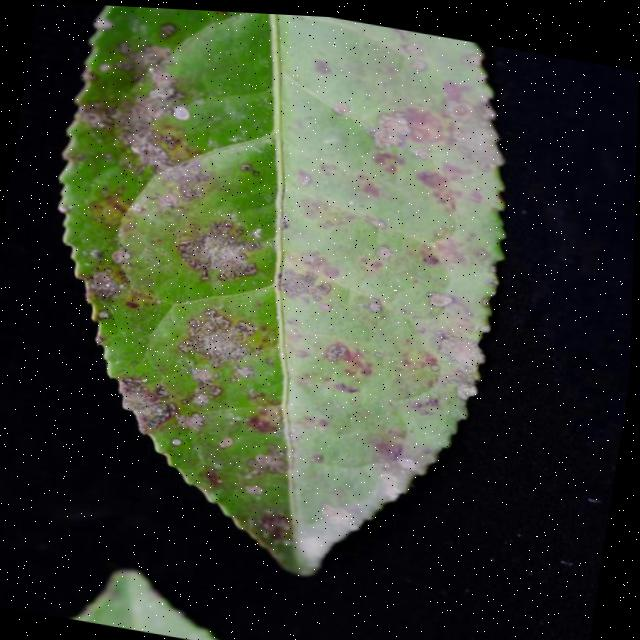Tea red rust: (20, 1, 526, 526)
